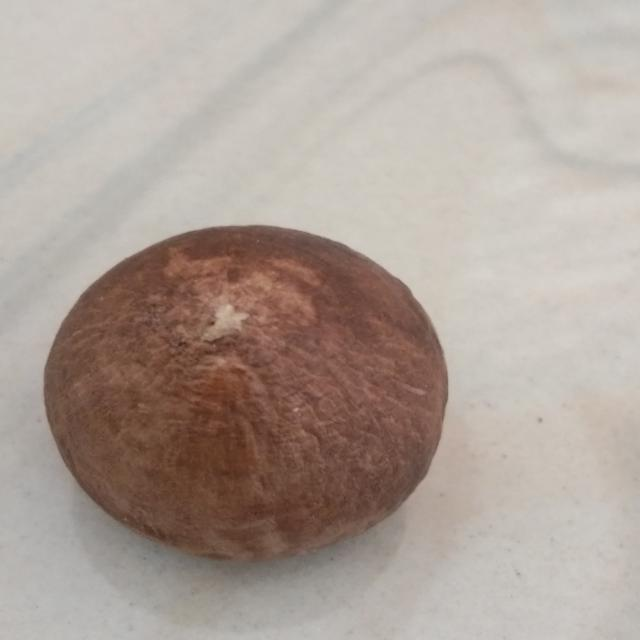karigot: (39, 214, 498, 592)
